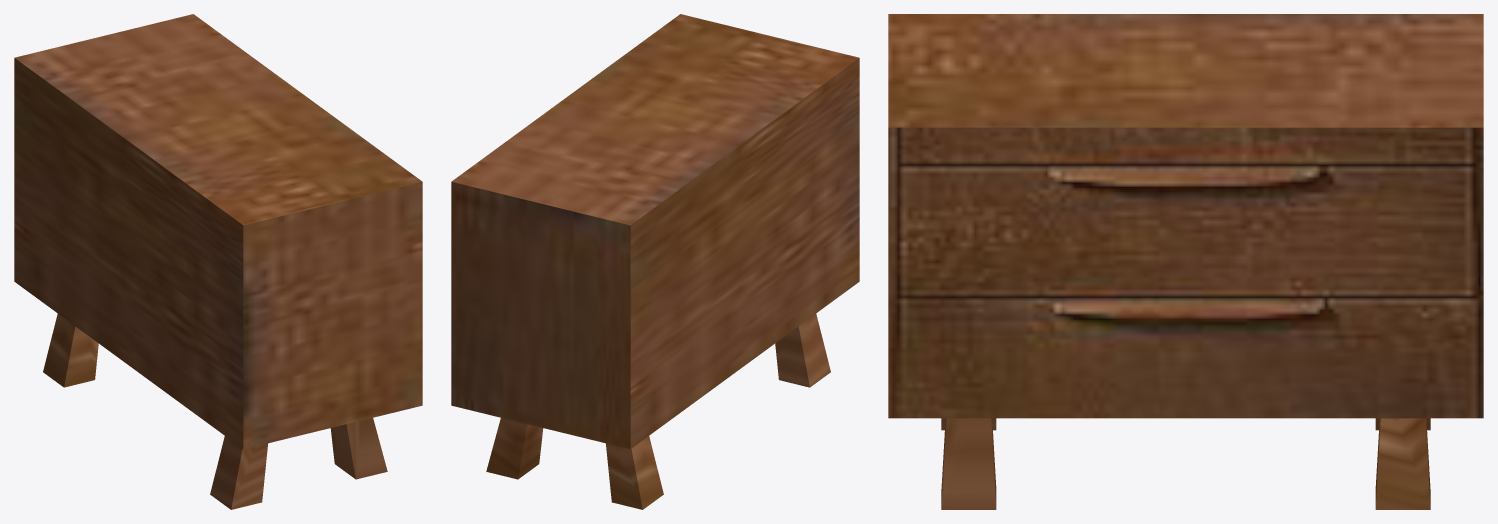
File: NIGHT STAND.fbx
3 views of the same model, side by side, from view 1: azimuth 30°, elevation 25°; view 2: azimuth 150°, elevation 25°; view 3: azimuth 270°, elevation 25° (orthographic). The views are drawn at different scales.
Parts seen in each view (by area): view 1: Cube.006; view 2: Cube.006; view 3: Cube.006.
Part boxes in pixels (x1,y1,x2,y2): Cube.006: (14, 14, 422, 509); Cube.006: (451, 14, 859, 509); Cube.006: (888, 14, 1483, 509).
Bounding box in the file's own units: 82.45 × 133 × 183.
